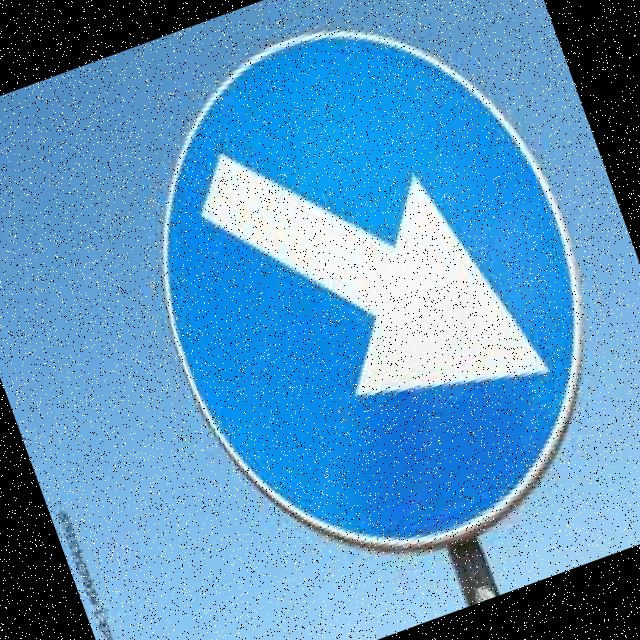compulsory_keep_right: (76, 0, 640, 614)
